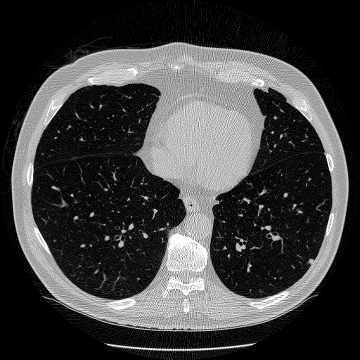nodule: (308, 258, 314, 264)
